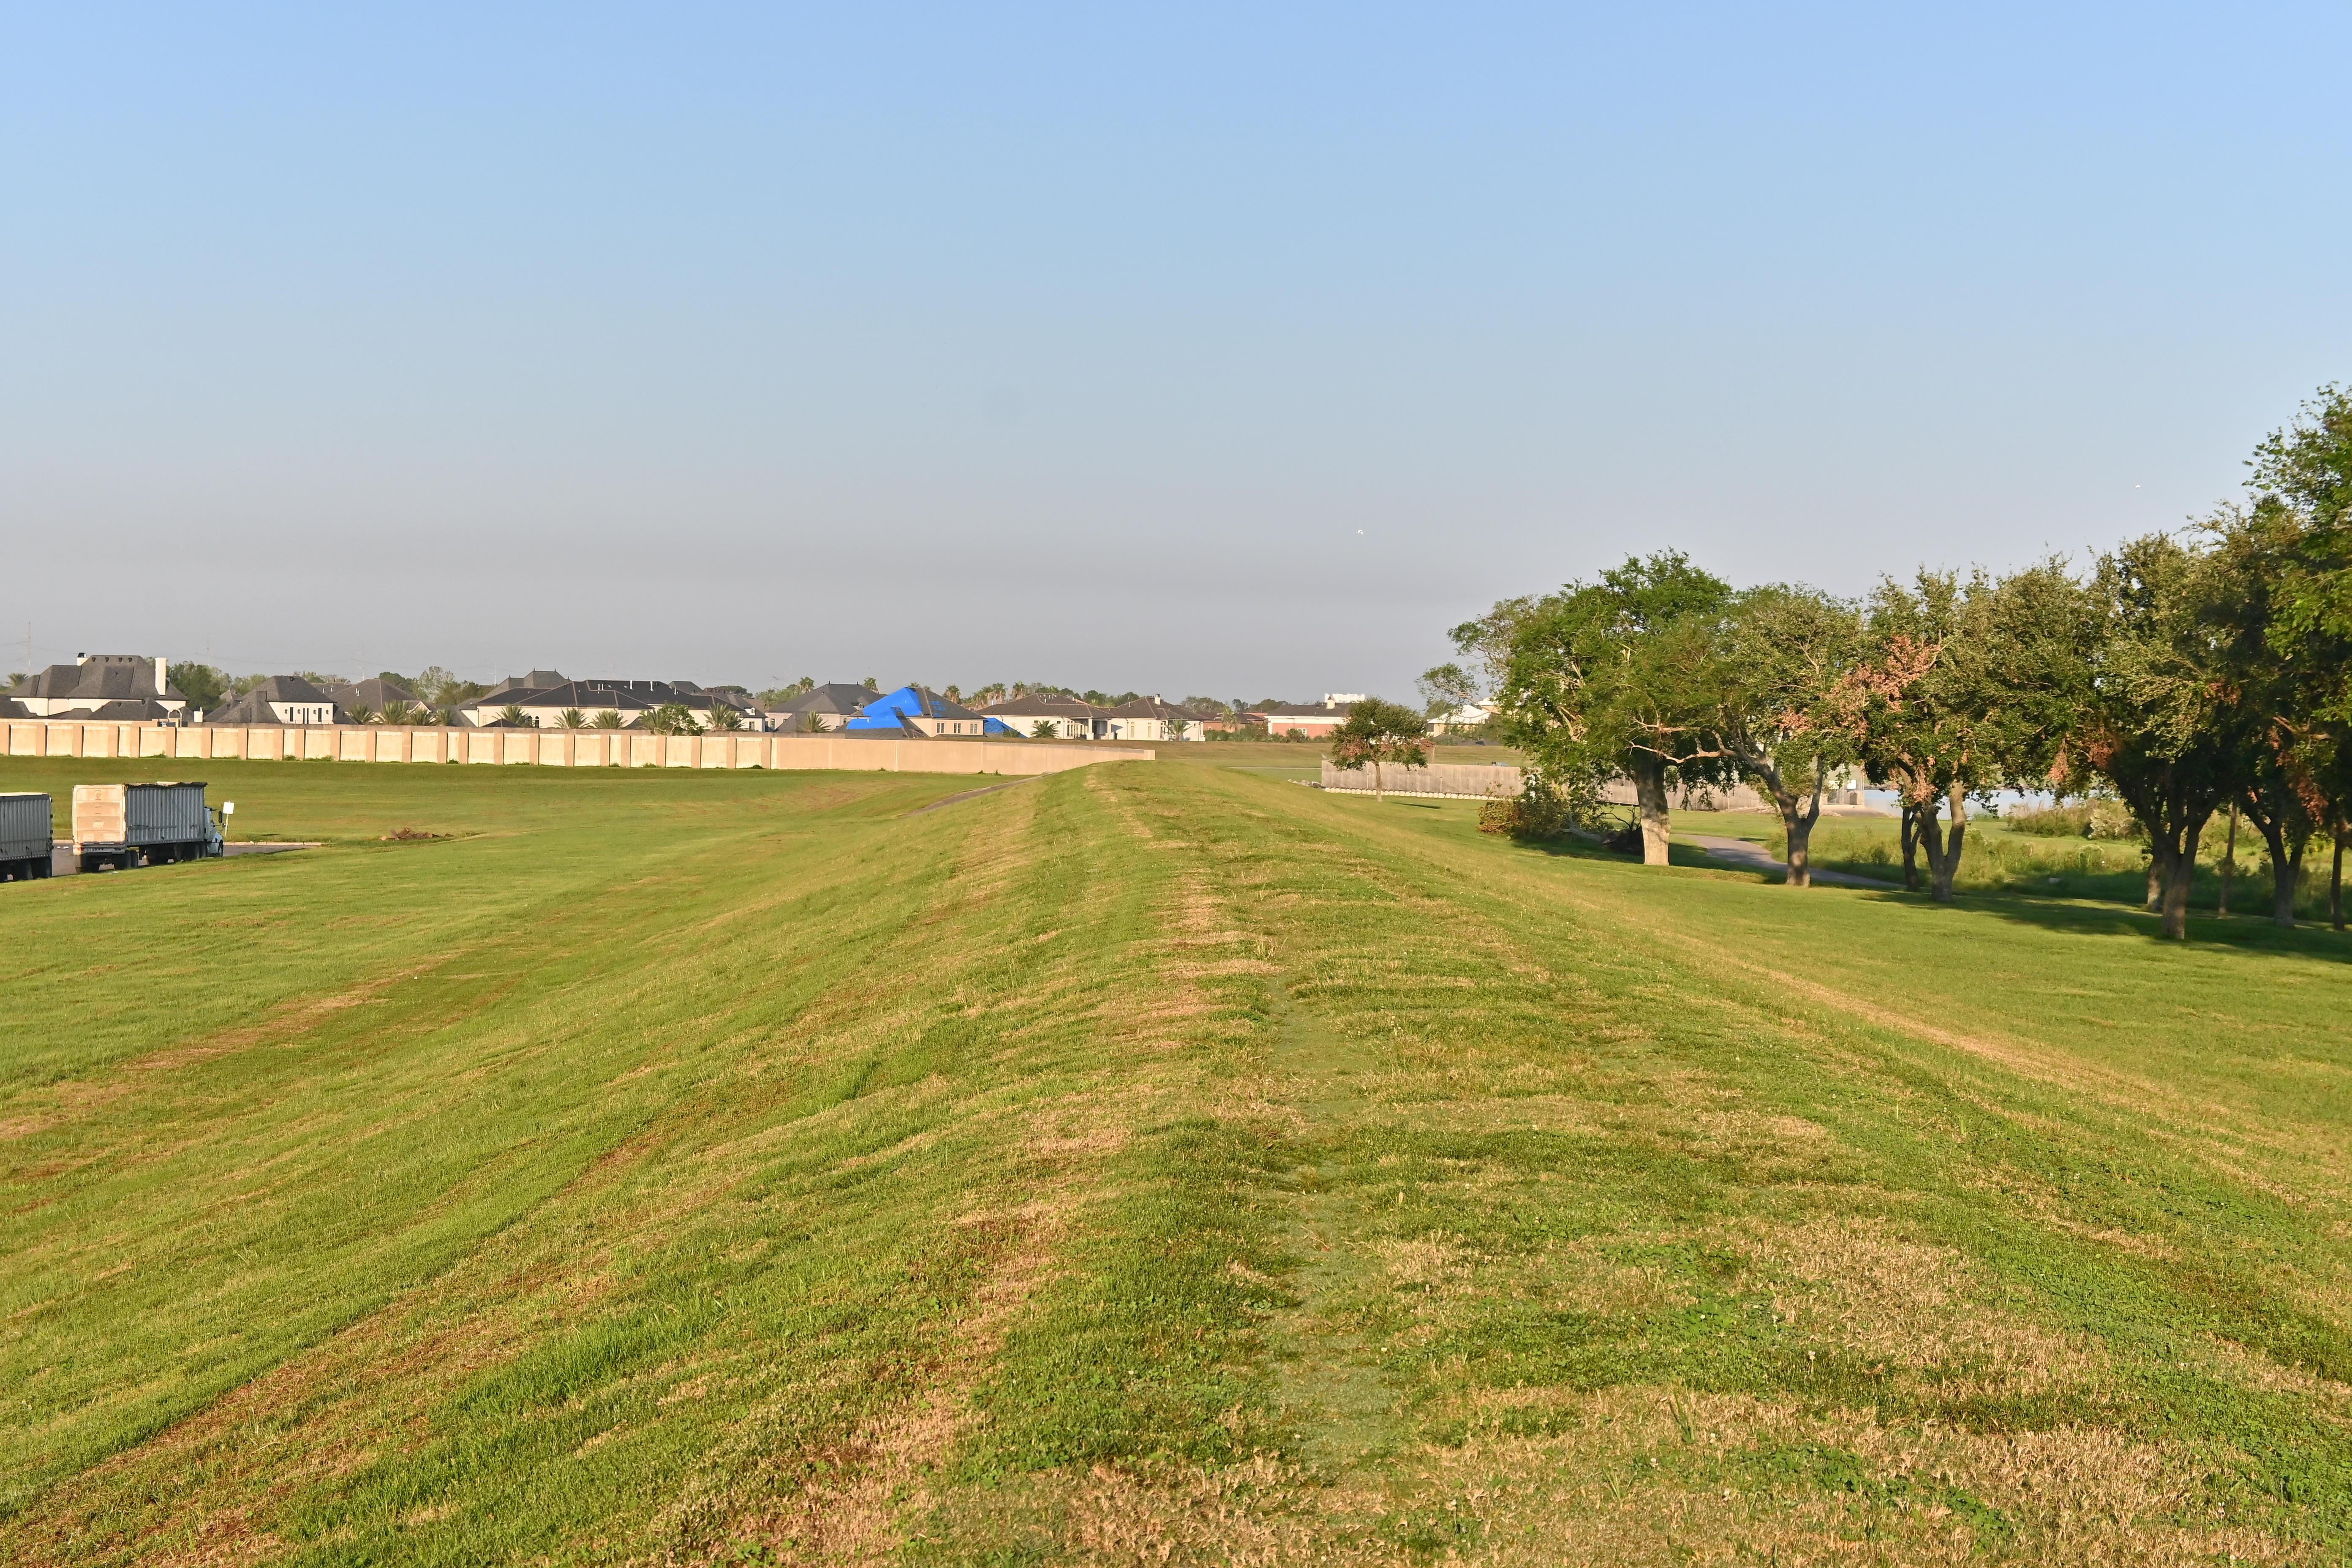minor: (837, 674, 1015, 749)
